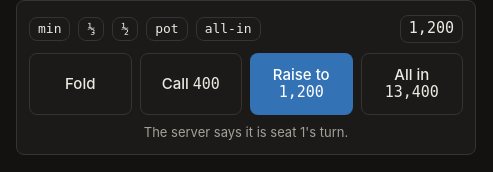
Scenario: the action bar › keeps the server's own word until the entry is refused, and gives it back
Expected: the text "The server says it is seat 1's turn." is shown, [144,124,348,140]
Replace the text in the field named "the total" with "500" at (431, 29), box [400,15,463,43]
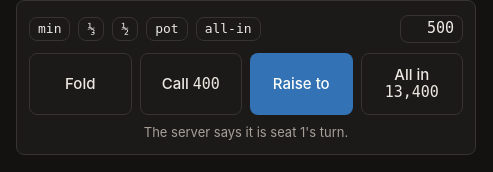
Click the button "Raise to".
click(301, 84)  # box [250,53,352,114]
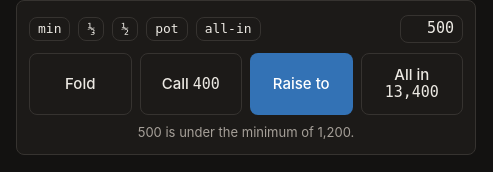
Expected: the text "500 is under the minimum of 1,200." is shown, [138,124,354,140]
Expected: the text "The server says it is seat 1's turn." is gone
Replace the text in the field named "the total" with "1,200" at (431, 29), box [400,15,463,43]
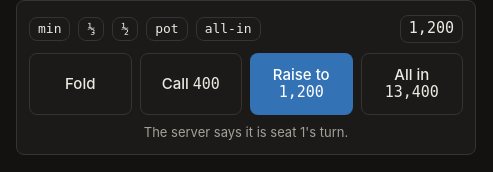
Expected: the text "The server says it is seat 1's turn." is shown, [144,124,348,140]
Expected: the text "500 is under the minimum of 1,200." is gone
